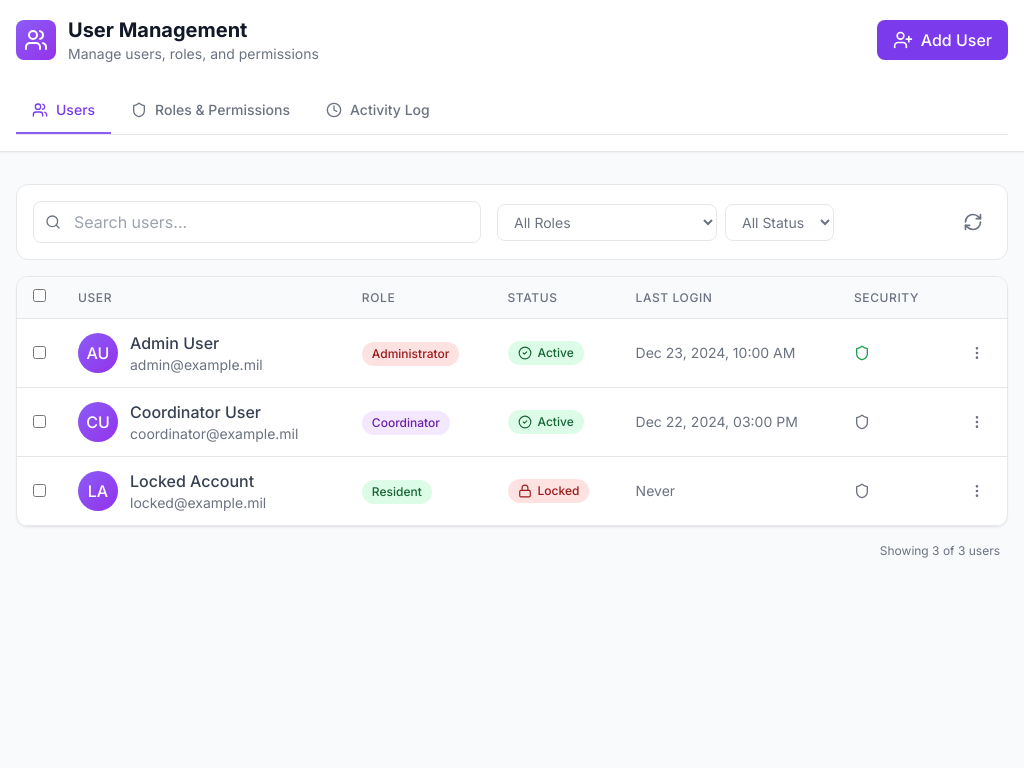
Test: AdminUsersPage › User Selection › should clear selection
// Select a user
Click the checkbox in the row of "admin@example.mil" at (40,352), box [33,346,46,359]
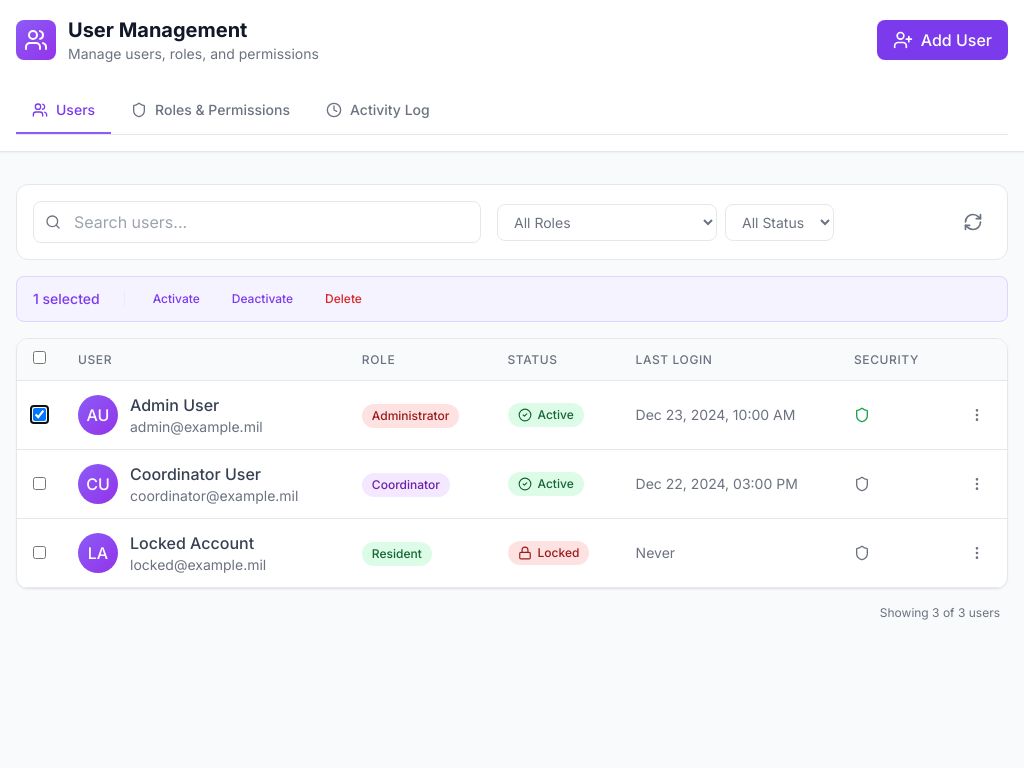
Check: the text "1 selected" is shown, box [33,290,100,307]
// Deselect by clicking the same checkbox again
Click the checkbox in the row of "admin@example.mil" at (40,414), box [33,408,46,421]
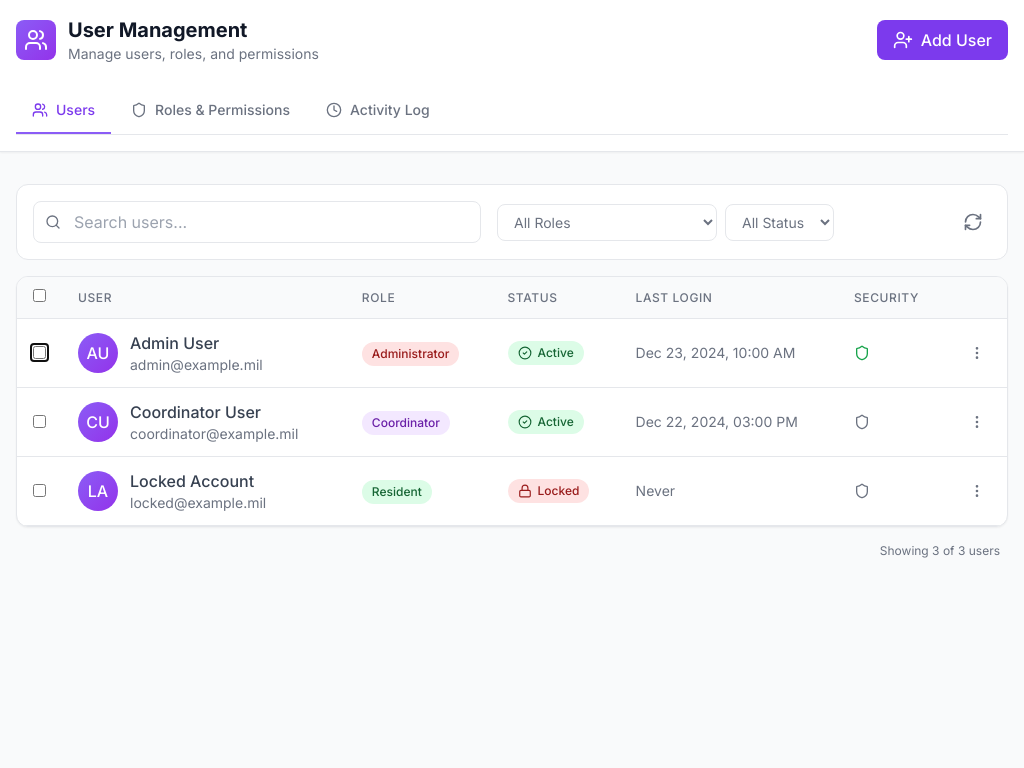
Check: the text "1 selected" is gone
